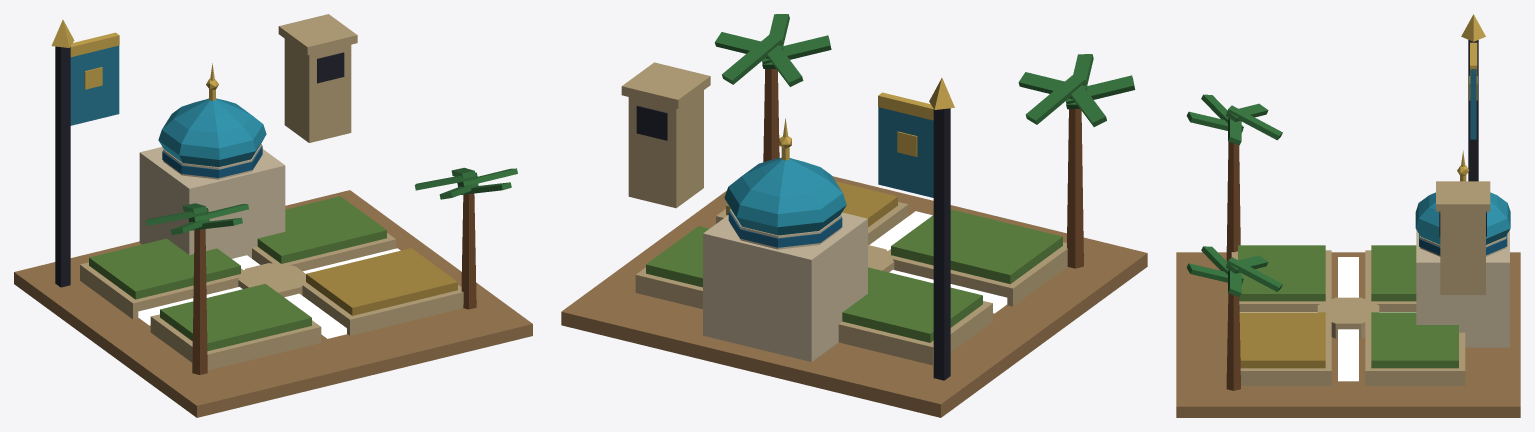
The model's file is farm_t3.glb.
The picture shows the model from 3 angles, left to right: view 1: azimuth 30°, elevation 25°; view 2: azimuth 150°, elevation 25°; view 3: azimuth 270°, elevation 25°; orthographic projection. The views are drawn at different scales.
Parts seen in each view (by area): view 1: body, glow; view 2: body, glow; view 3: body, glow.
Boxes of the visible parts, bbox=[...] form: body: bbox=[14, 14, 532, 417]; glow: bbox=[138, 248, 400, 338]; body: bbox=[561, 14, 1147, 417]; glow: bbox=[869, 211, 1007, 313]; body: bbox=[1176, 14, 1520, 417]; glow: bbox=[1240, 257, 1415, 381].
Bounding box in the file's own units: 1.85 × 1.38 × 1.65.
